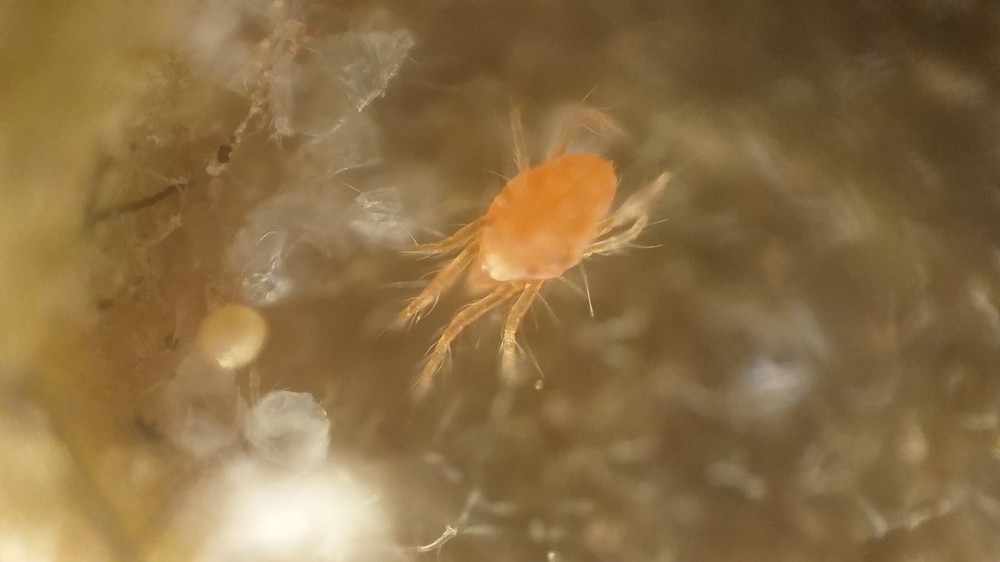Aracnido Rojo: (372, 78, 702, 429)
